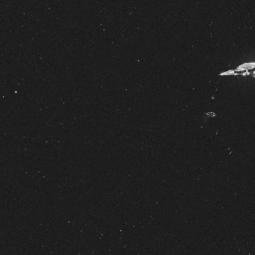lisa_pathfinder: (194, 45, 255, 180)
